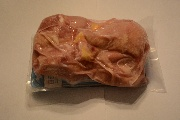chicken: (29, 13, 166, 95)
